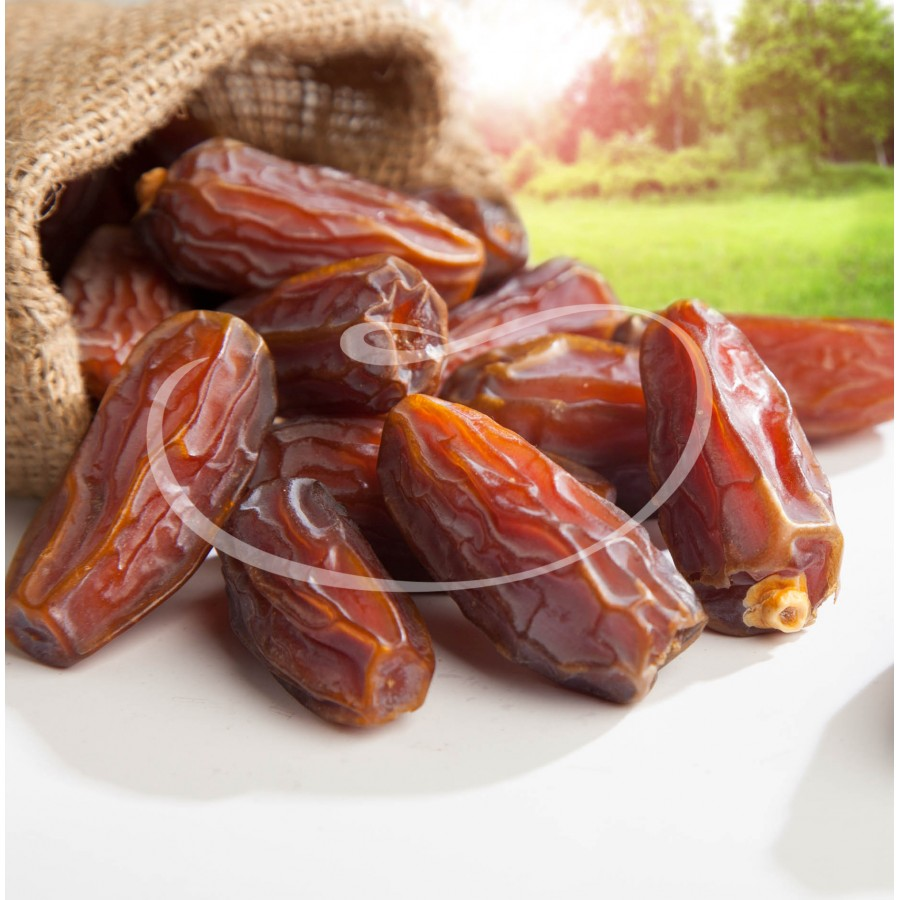hurmaa: (346, 379, 715, 722)
